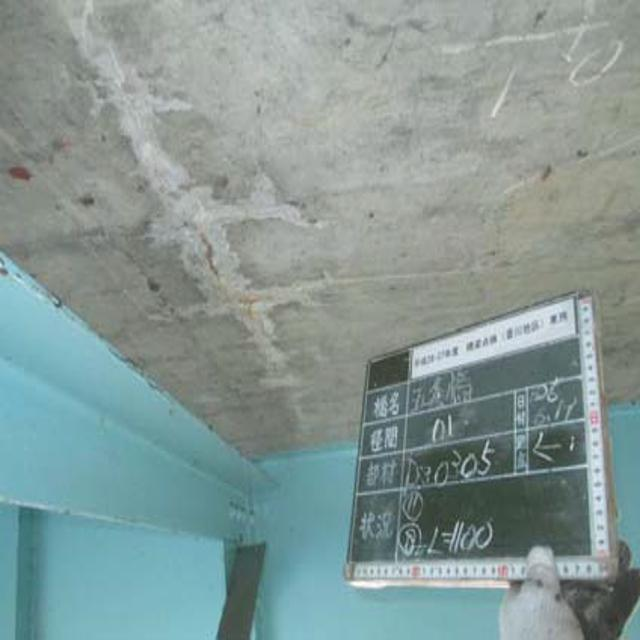freelime: (103, 104, 326, 374)
